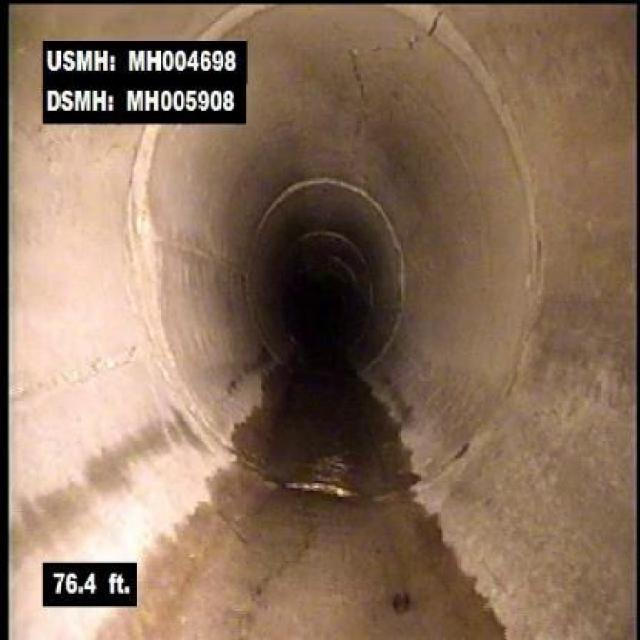Crack: (246, 532, 323, 625), (24, 349, 136, 400), (345, 37, 386, 117), (398, 14, 448, 49)
